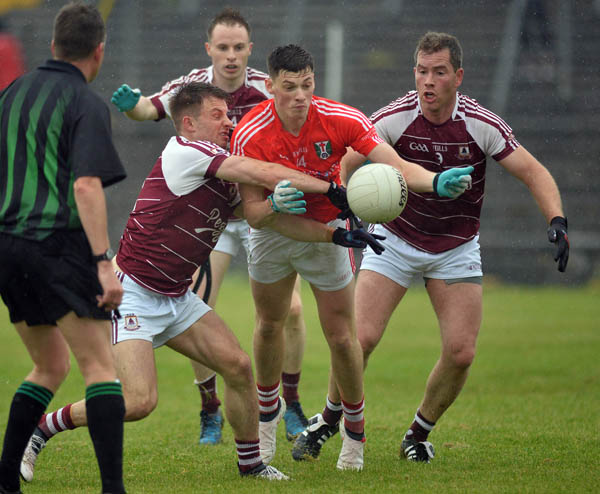ball: (345, 165, 406, 226)
player: (7, 3, 140, 482), (371, 18, 508, 466), (245, 45, 380, 461), (120, 81, 260, 446), (177, 13, 260, 88)
